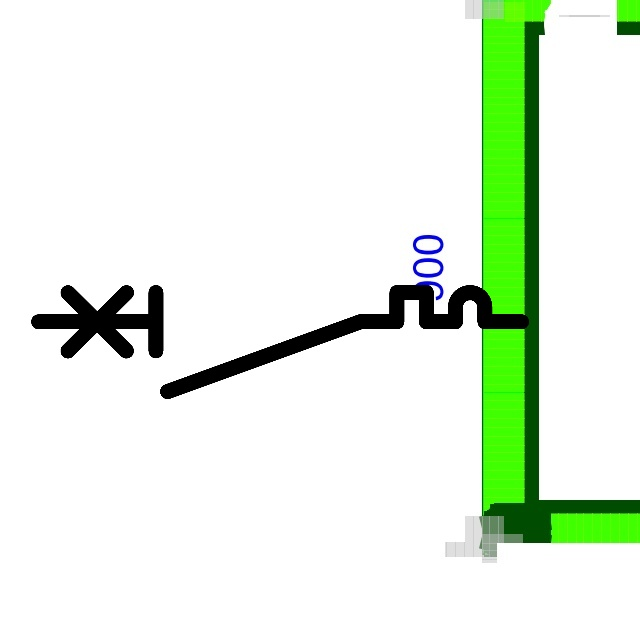interruptor_termomagnetico: (26, 280, 534, 404)
